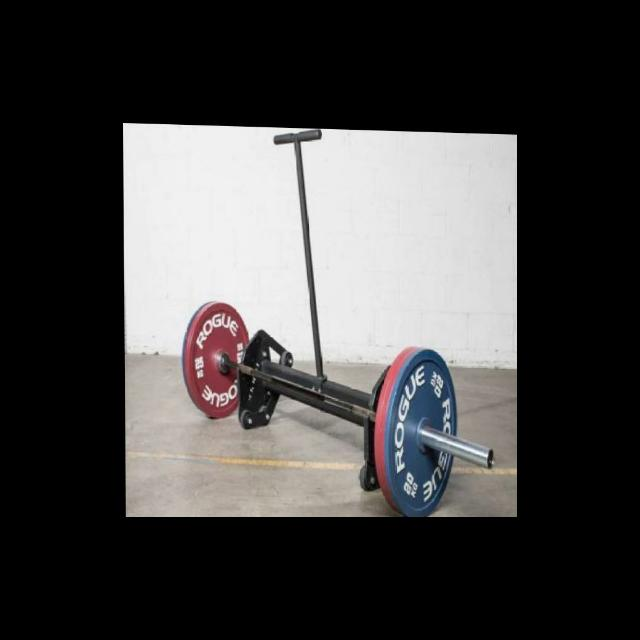barbell: (380, 342, 501, 517)
